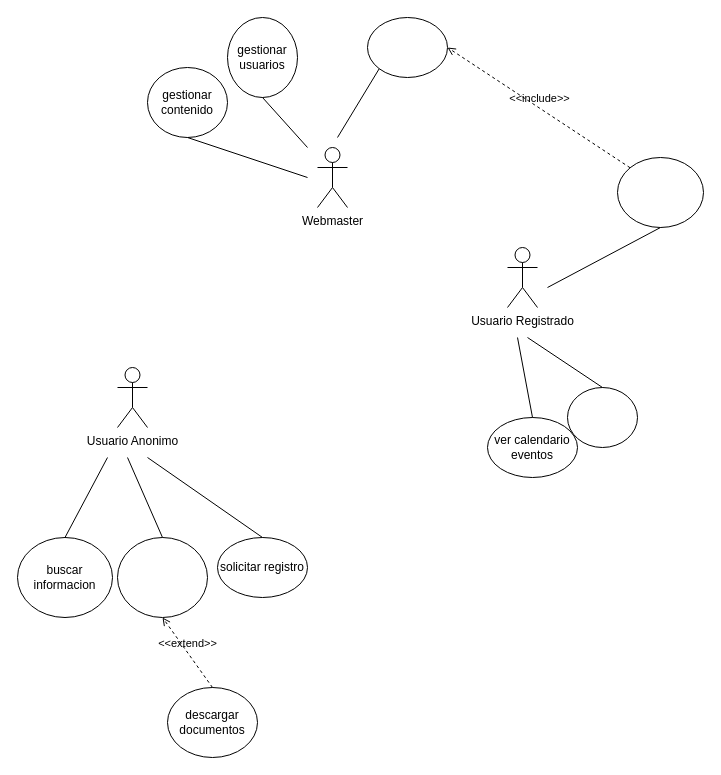
Image size: 721x775. Some labels were removed from this diagram. The centre of each missing label's shape, as x and y in pixels:
"descargar tickets" goes at (x=602, y=417).
"subir documentos" goes at (x=660, y=192).
"validar documentos" goes at (x=407, y=47).
"visualizar documentos" goes at (x=162, y=577).
